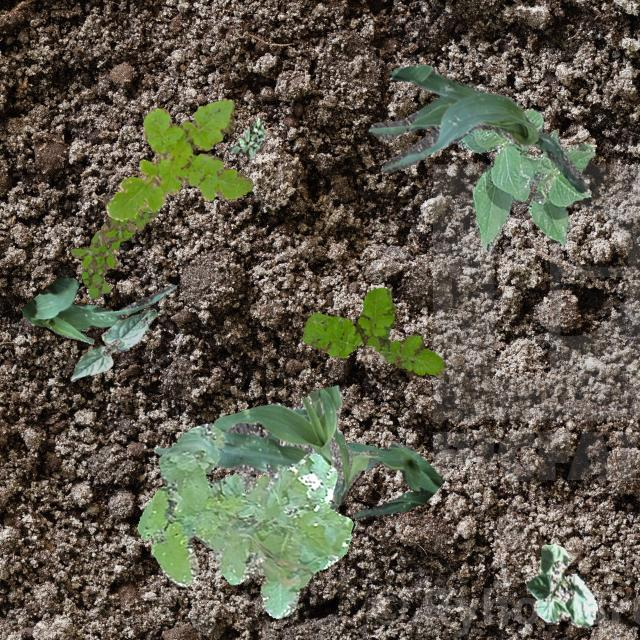crop: (152, 384, 378, 508), (368, 64, 586, 192), (456, 107, 594, 250), (21, 274, 176, 342), (346, 440, 442, 518), (68, 306, 156, 381), (524, 542, 596, 626)
weed: (136, 422, 352, 618), (106, 98, 252, 220), (302, 286, 446, 376), (70, 205, 158, 298), (228, 118, 264, 158)
